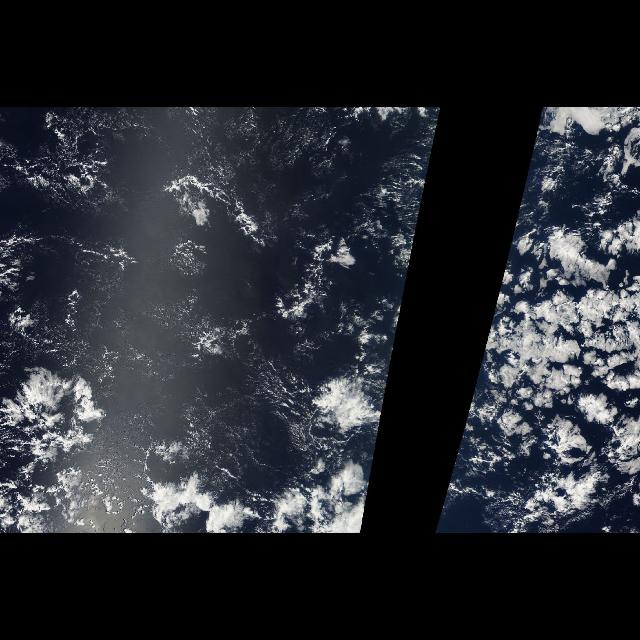Flower: (484, 136, 638, 532)
Gravel: (160, 299, 320, 426)
Sugar: (234, 108, 320, 176)
